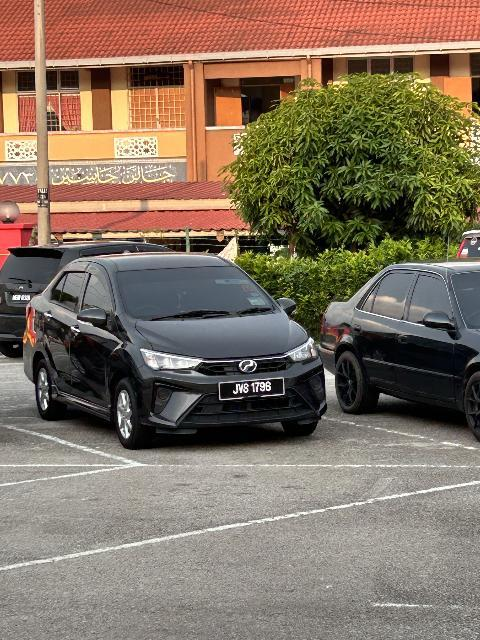JVS1796: (217, 377, 285, 406)
License_Plate: (217, 377, 285, 406)
car: (14, 244, 334, 448), (322, 264, 480, 441)
